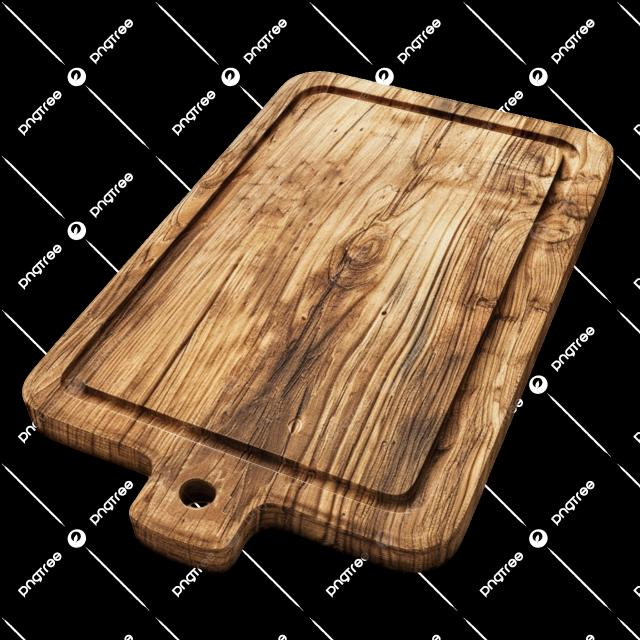Talenan: (6, 46, 624, 576)
